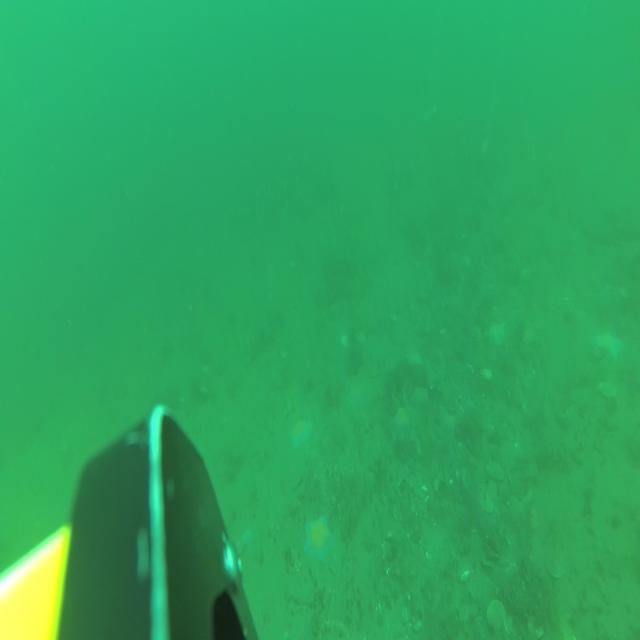holothurian: (533, 447, 573, 477)
scallop: (486, 597, 506, 635), (547, 555, 566, 579), (526, 615, 544, 638), (376, 574, 394, 597), (597, 380, 618, 398), (479, 495, 496, 515)
starfish: (303, 512, 333, 568), (595, 329, 625, 362), (289, 417, 315, 451), (486, 313, 508, 344), (391, 405, 412, 433)
